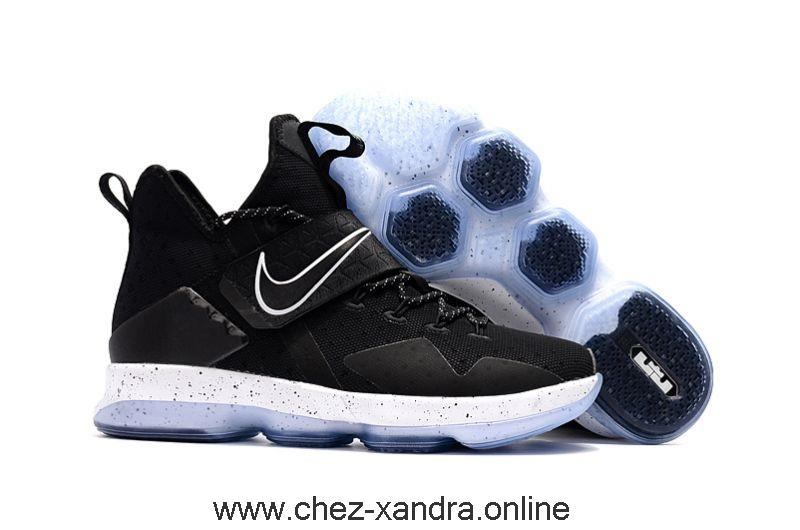nike: (252, 226, 370, 319)
